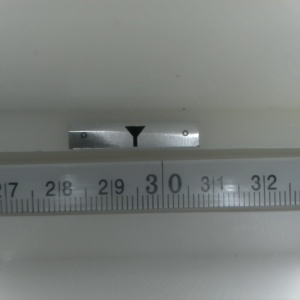0: (168, 174, 182, 193)
2: (45, 180, 56, 197), (97, 179, 108, 195), (266, 175, 277, 190)
3: (145, 174, 157, 194), (250, 175, 260, 191), (200, 177, 209, 192)
7: (7, 182, 17, 197)
8: (62, 180, 72, 196)
9: (114, 178, 124, 194)
finger: (123, 126, 145, 148)
